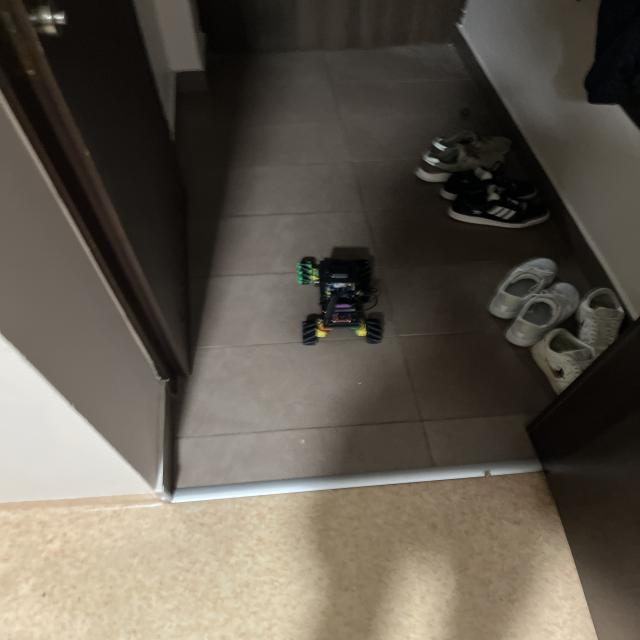robot: (297, 257, 383, 345)
